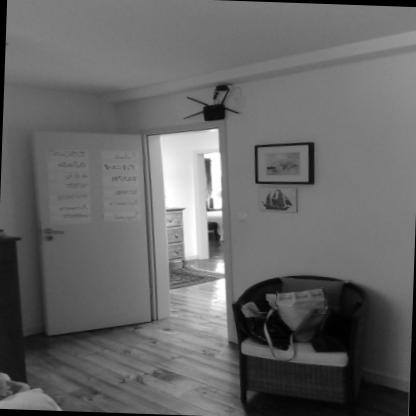open: (26, 118, 244, 347)
